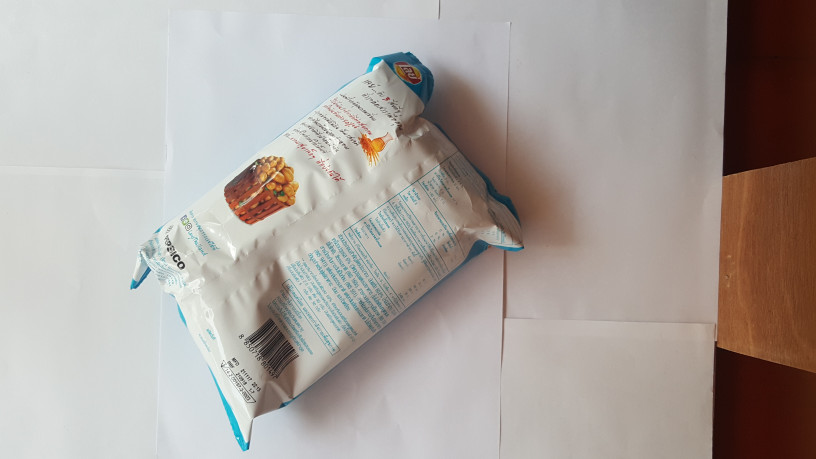lays-onion: (131, 38, 533, 459)
